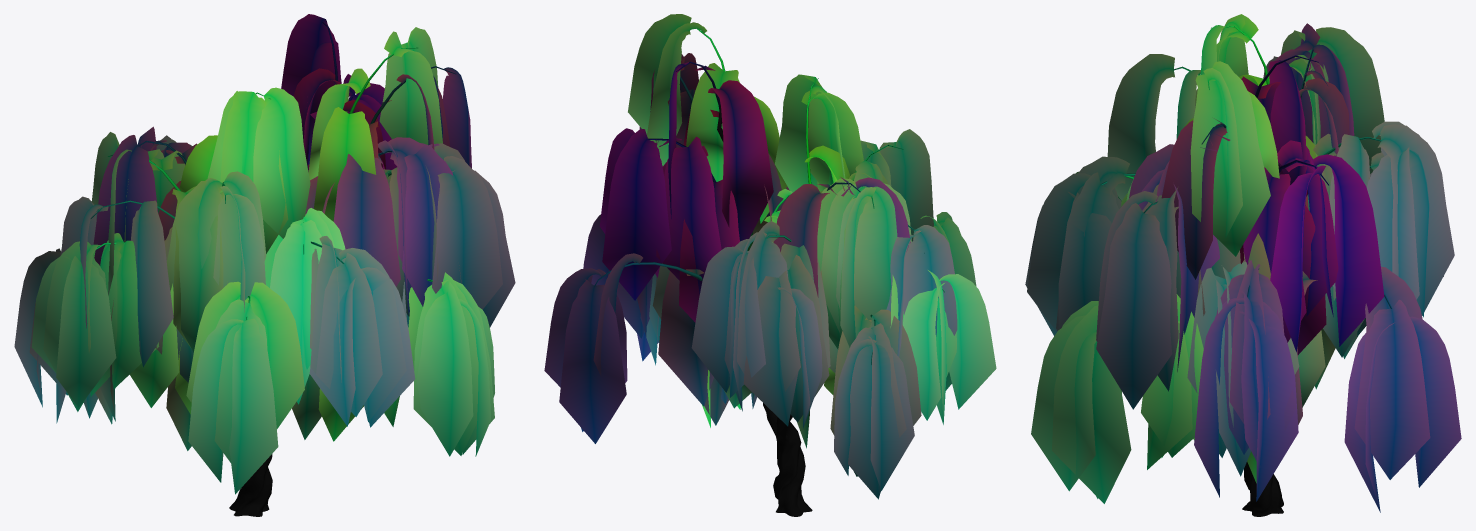
Rendered from Willow Tree.fbx.
3 views of the same model, side by side, from view 1: azimuth 30°, elevation 25°; view 2: azimuth 150°, elevation 25°; view 3: azimuth 270°, elevation 25° (orthographic). The views are drawn at different scales.
Visible parts, largest first — view 1: Tree_1, Tree_0; view 2: Tree_1, Tree_0; view 3: Tree_1, Tree_0.
Boxes of the visible parts, x1,y1,x2,y2 form: Tree_1: [14, 14, 515, 494]; Tree_0: [90, 22, 455, 516]; Tree_1: [544, 14, 996, 499]; Tree_0: [594, 29, 944, 516]; Tree_1: [1025, 14, 1461, 512]; Tree_0: [1101, 26, 1391, 516].
Size of the model in its own units: 682 by 706 by 541.
